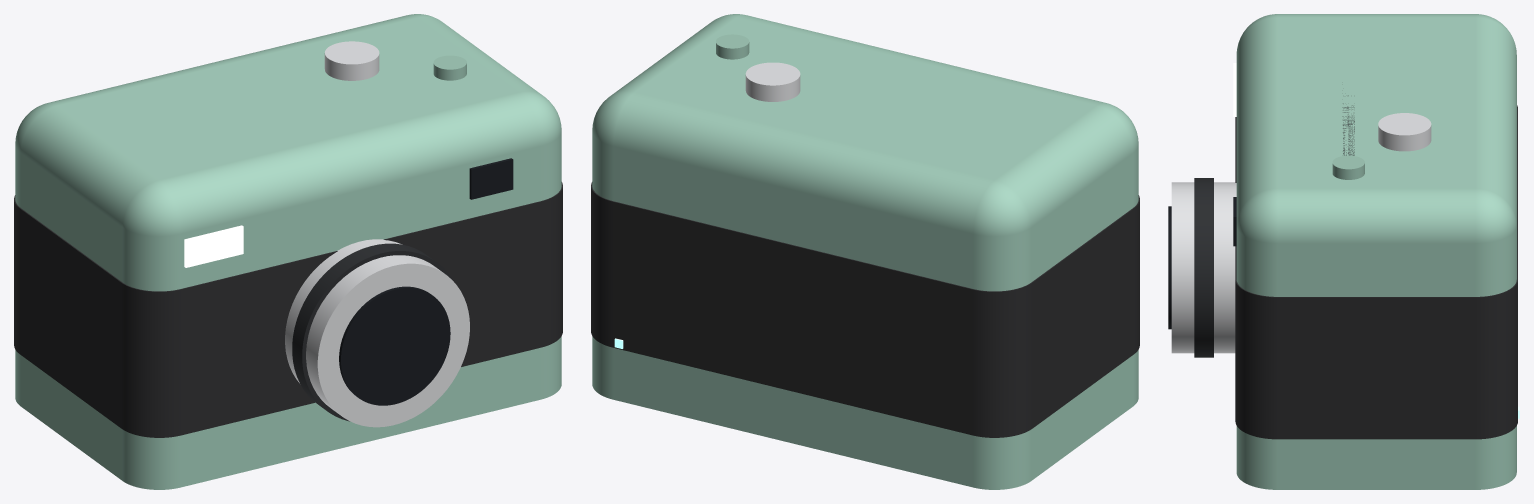
3 views of the same model, side by side, from view 1: azimuth 30°, elevation 25°; view 2: azimuth 150°, elevation 25°; view 3: azimuth 270°, elevation 25° (orthographic). The views are drawn at different scales.
Visible parts, largest first — view 1: body.1, rubber.1, metal.1, glass.1, coat.1, metal.2, diffuser.1, glass.3, button.1; view 2: body.1, rubber.1, metal.2, button.1; view 3: body.1, rubber.1, metal.1, coat.1, metal.2, button.1, glass.1.
Boxes of the visible parts, left/top/right/bottom form: body.1: left=15, top=14, right=561, bottom=489; rubber.1: left=14, top=182, right=562, bottom=437; metal.1: left=285, top=239, right=469, bottom=427; glass.1: left=339, top=286, right=450, bottom=405; coat.1: left=292, top=243, right=452, bottom=421; metal.2: left=324, top=41, right=379, bottom=80; diffuser.1: left=184, top=225, right=243, bottom=267; glass.3: left=469, top=158, right=513, bottom=199; button.1: left=433, top=55, right=466, bottom=80; body.1: left=592, top=14, right=1138, bottom=489; rubber.1: left=591, top=182, right=1139, bottom=437; metal.2: left=745, top=62, right=800, bottom=101; button.1: left=716, top=34, right=749, bottom=59; body.1: left=1236, top=14, right=1516, bottom=489; rubber.1: left=1235, top=105, right=1517, bottom=439; metal.1: left=1171, top=182, right=1236, bottom=353; coat.1: left=1194, top=178, right=1213, bottom=357; metal.2: left=1378, top=113, right=1431, bottom=151; button.1: left=1332, top=155, right=1364, bottom=179; glass.1: left=1168, top=206, right=1171, bottom=329.
Bounding box in the file's own units: 0.1658 × 0.1122 × 0.1192.
